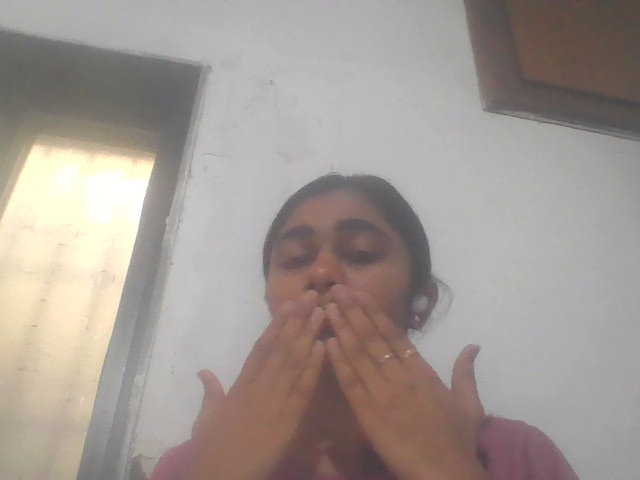thank you: (155, 271, 511, 477)
